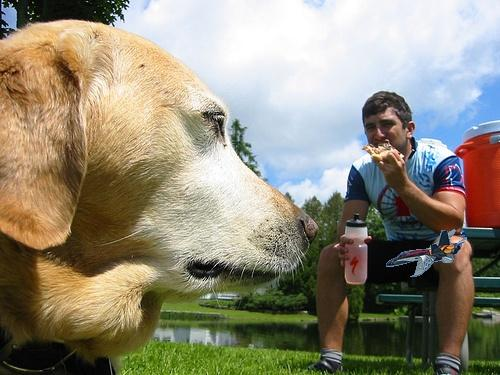tampered: (387, 230, 467, 277)
